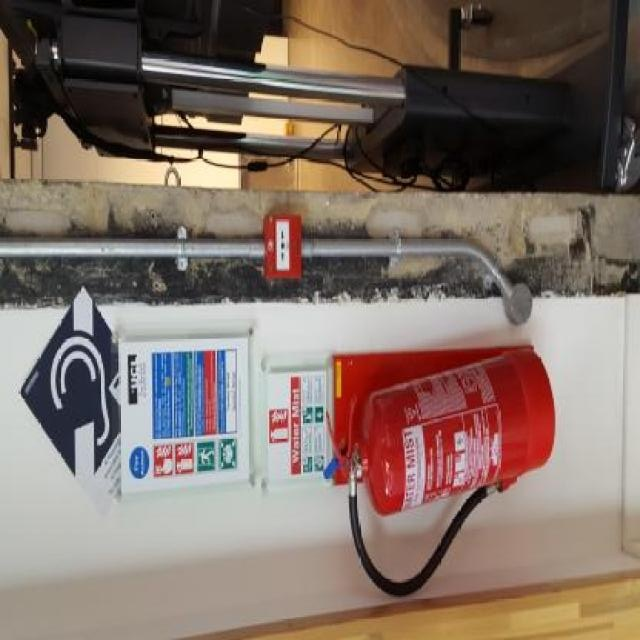fire extinguisher: (327, 349, 558, 596)
